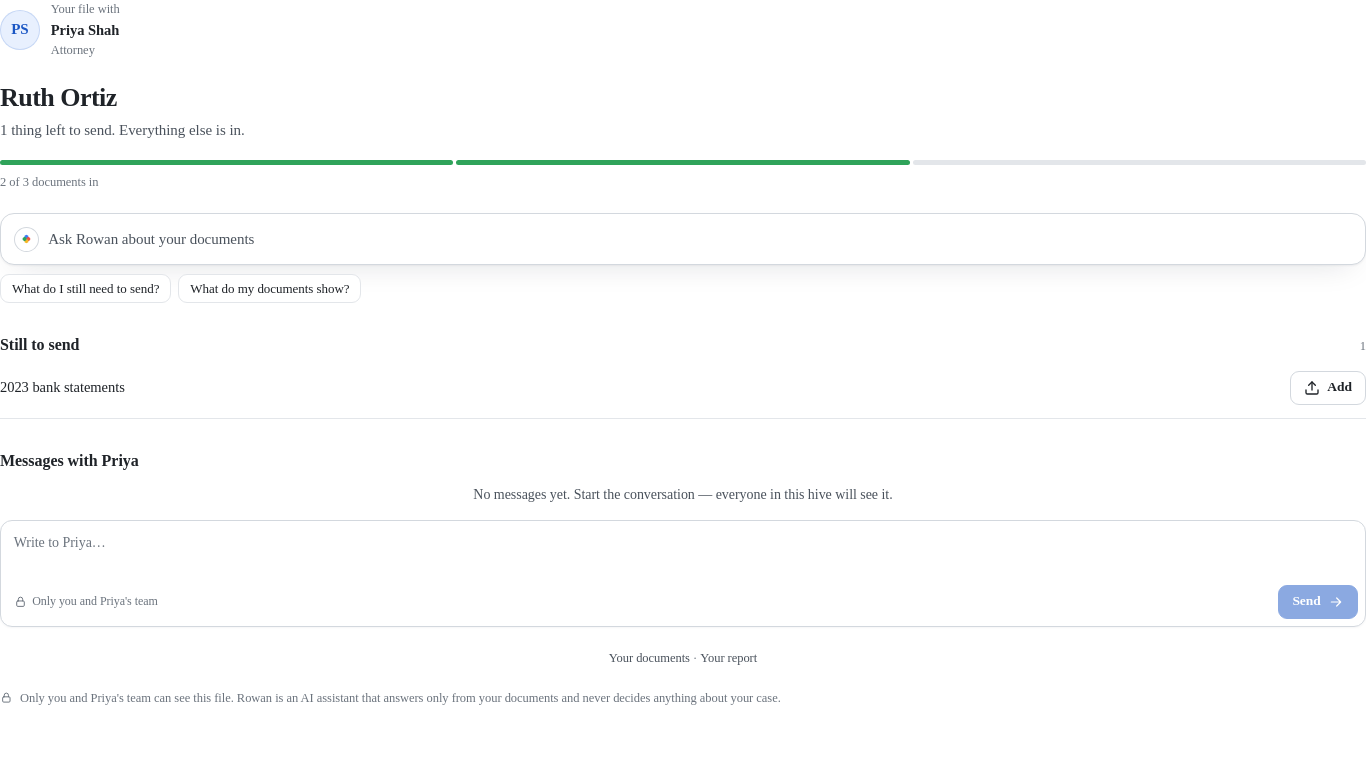
Scenario: ClientHome › opens the chat sheet from the Ask button, not the top box
The image size is (1366, 768).
What coordinates should you click on to do the following:
click the button with test id "client-home-ask"
I would click on:
 (97, 239)
Its box is [0, 213, 1365, 265].
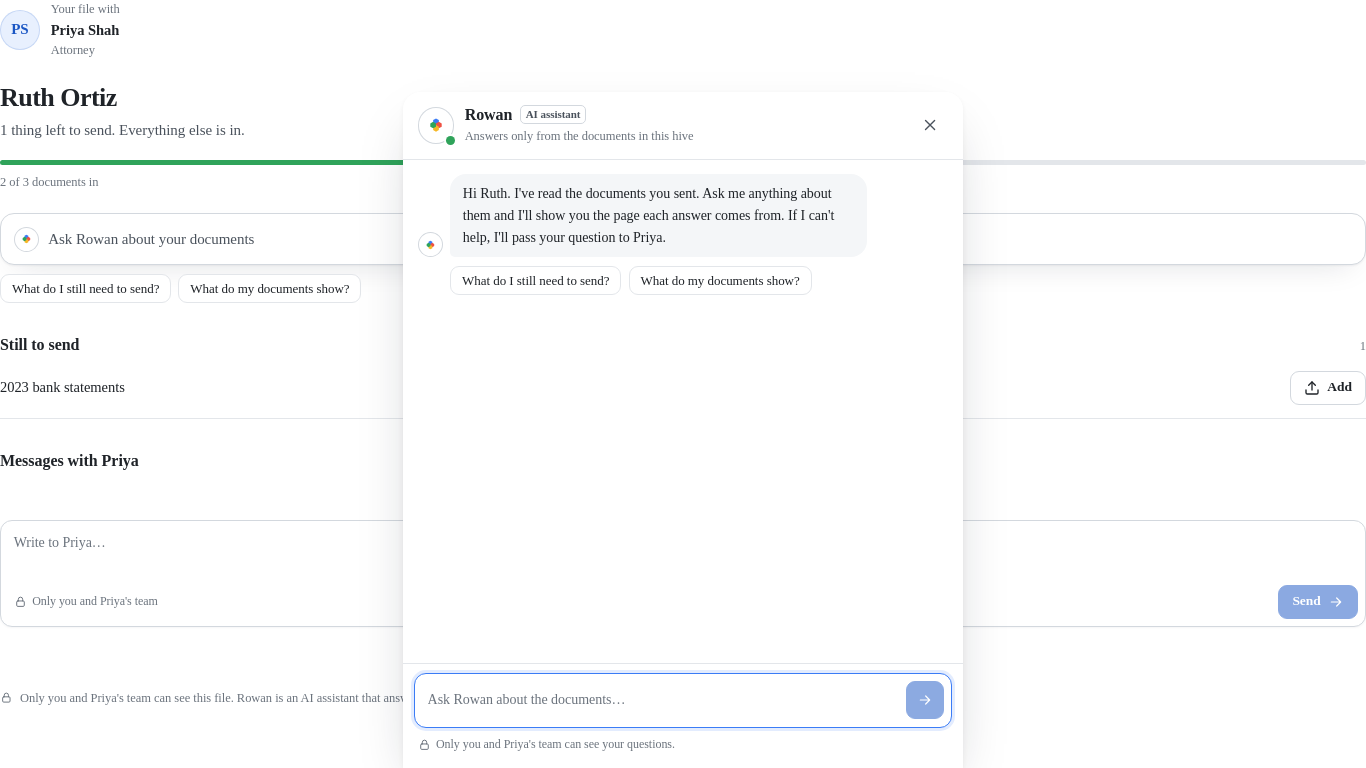
Result: the dialog named "Ask Rowan" is shown at [403, 92, 963, 767]
